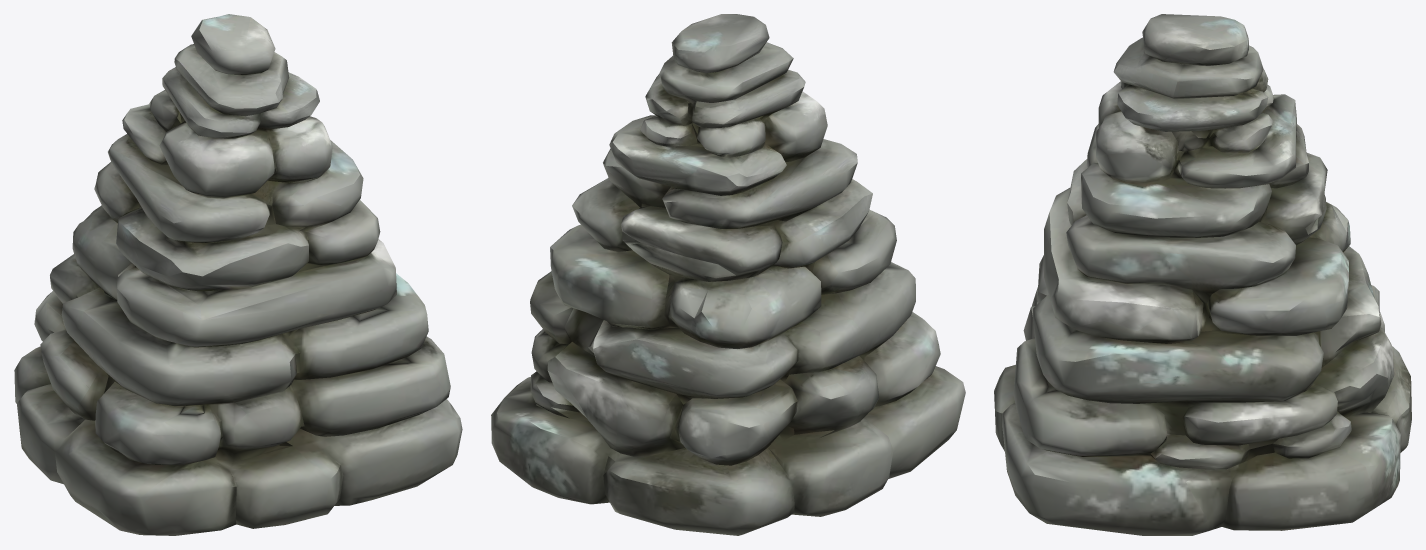
The model's file is cairn.glb.
3 renders of one model, left to right at view 1: azimuth 30°, elevation 25°; view 2: azimuth 150°, elevation 25°; view 3: azimuth 270°, elevation 25°, orthographic. The views are drawn at different scales.
Parts seen in each view (by area): view 1: model; view 2: model; view 3: model.
Boxes of the visible parts, x1,y1,x2,y2 form: model: (14, 14, 462, 535); model: (491, 14, 965, 535); model: (994, 14, 1411, 535).
Size of the model in its own units: 0.8982 by 1 by 0.8826.
1 material, 1 textured.
